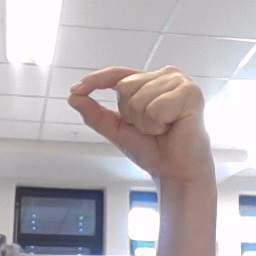S: (66, 61, 218, 184)
